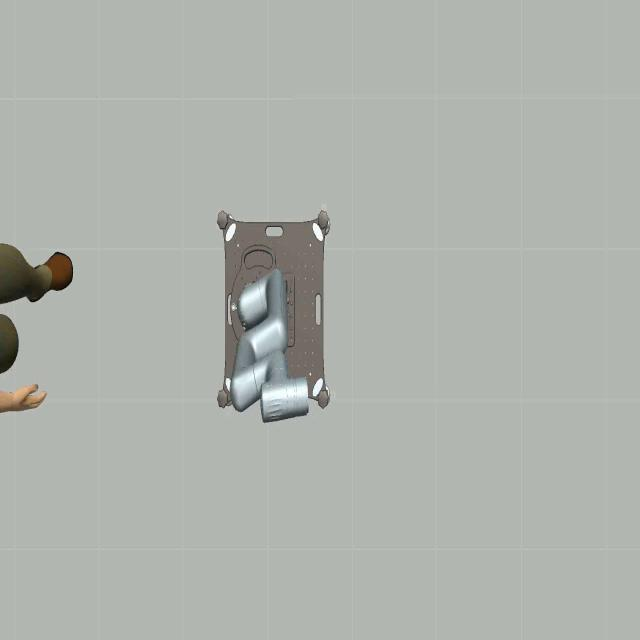human: (0, 241, 73, 414)
robot: (215, 206, 331, 423)
